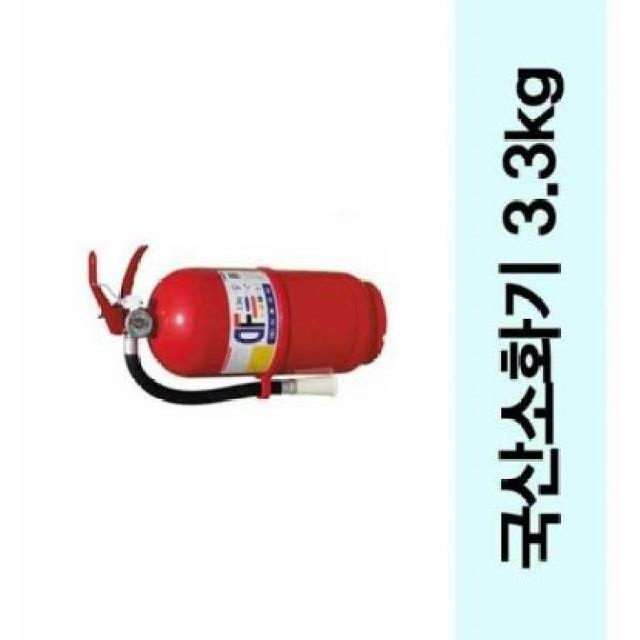fire extinguisher: (88, 245, 386, 406)
